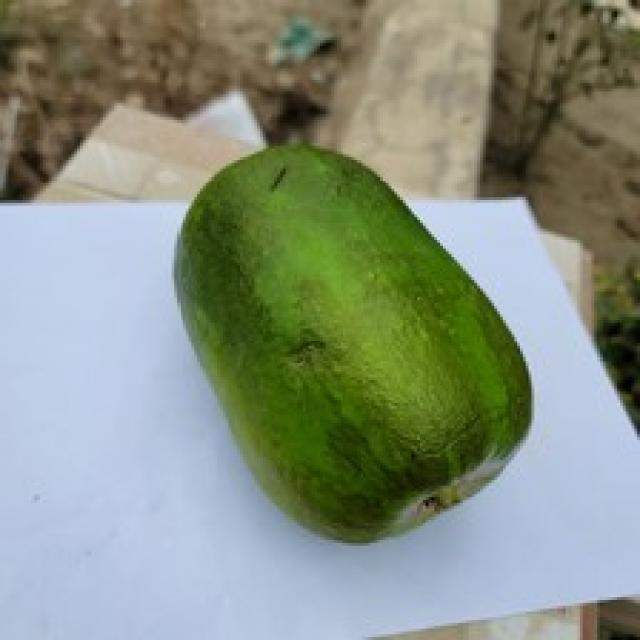Pepaya unrippen: (167, 134, 549, 550)
